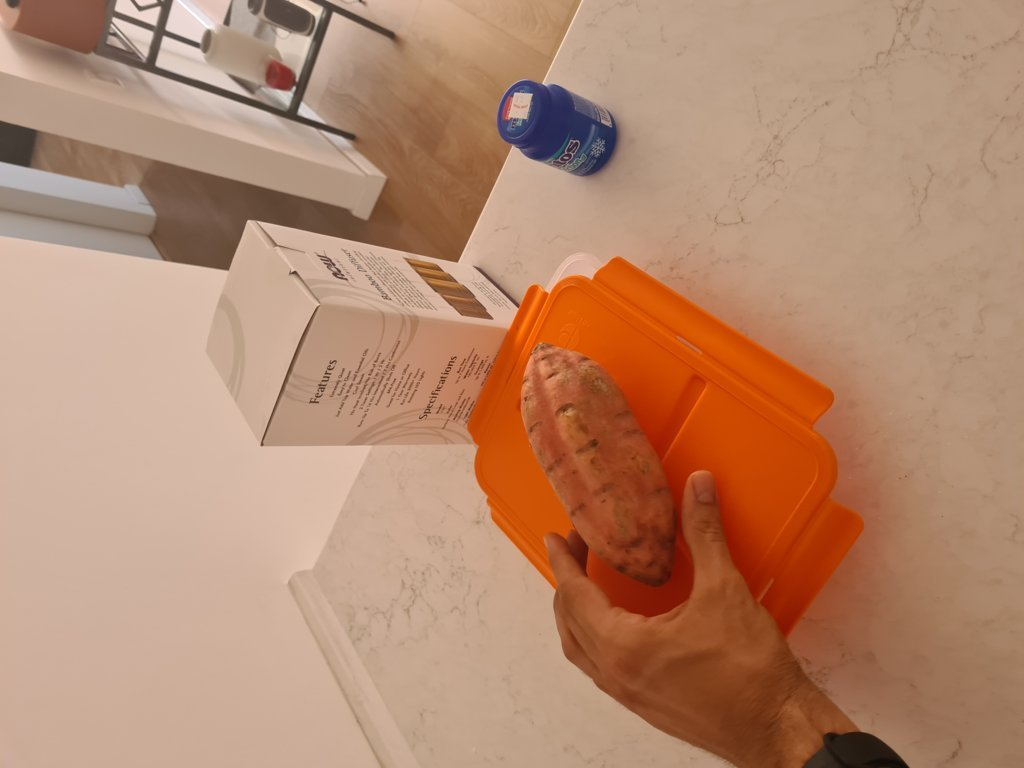Sweet Potatow: (518, 343, 680, 595)
